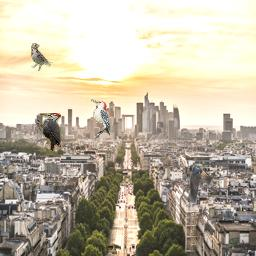Sparrow: (31, 43, 53, 71)
Swallow: (188, 163, 213, 203), (107, 244, 121, 254)
Woodpecker: (35, 113, 61, 153), (90, 99, 110, 139)
